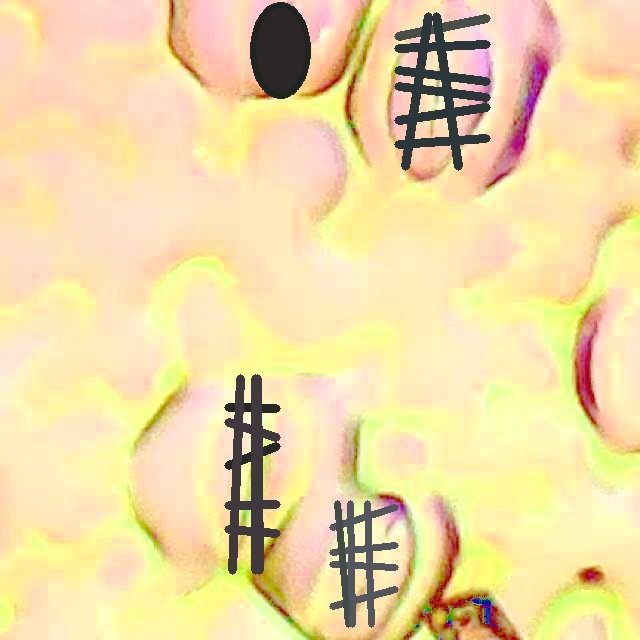close: (395, 12, 489, 169), (224, 375, 280, 573), (329, 500, 398, 627)
open: (250, 2, 311, 98)
